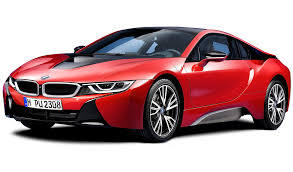car: (2, 27, 292, 142)
